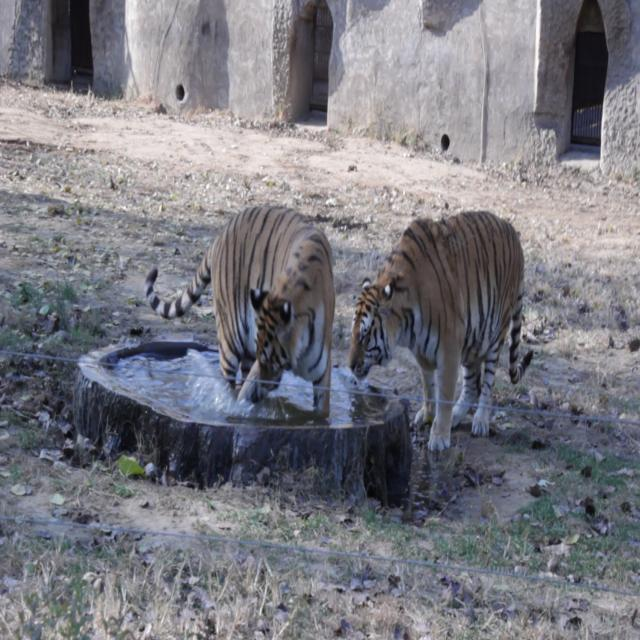Tiger: (346, 190, 542, 467), (139, 191, 337, 436)
